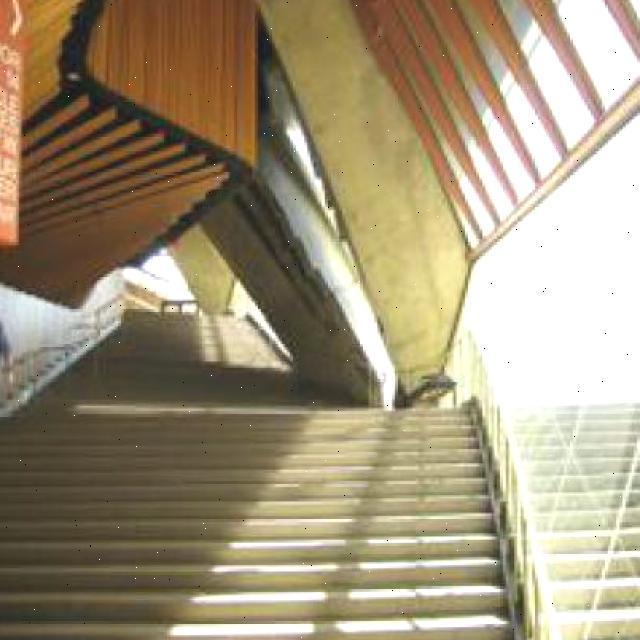stair: (48, 476, 423, 638)
